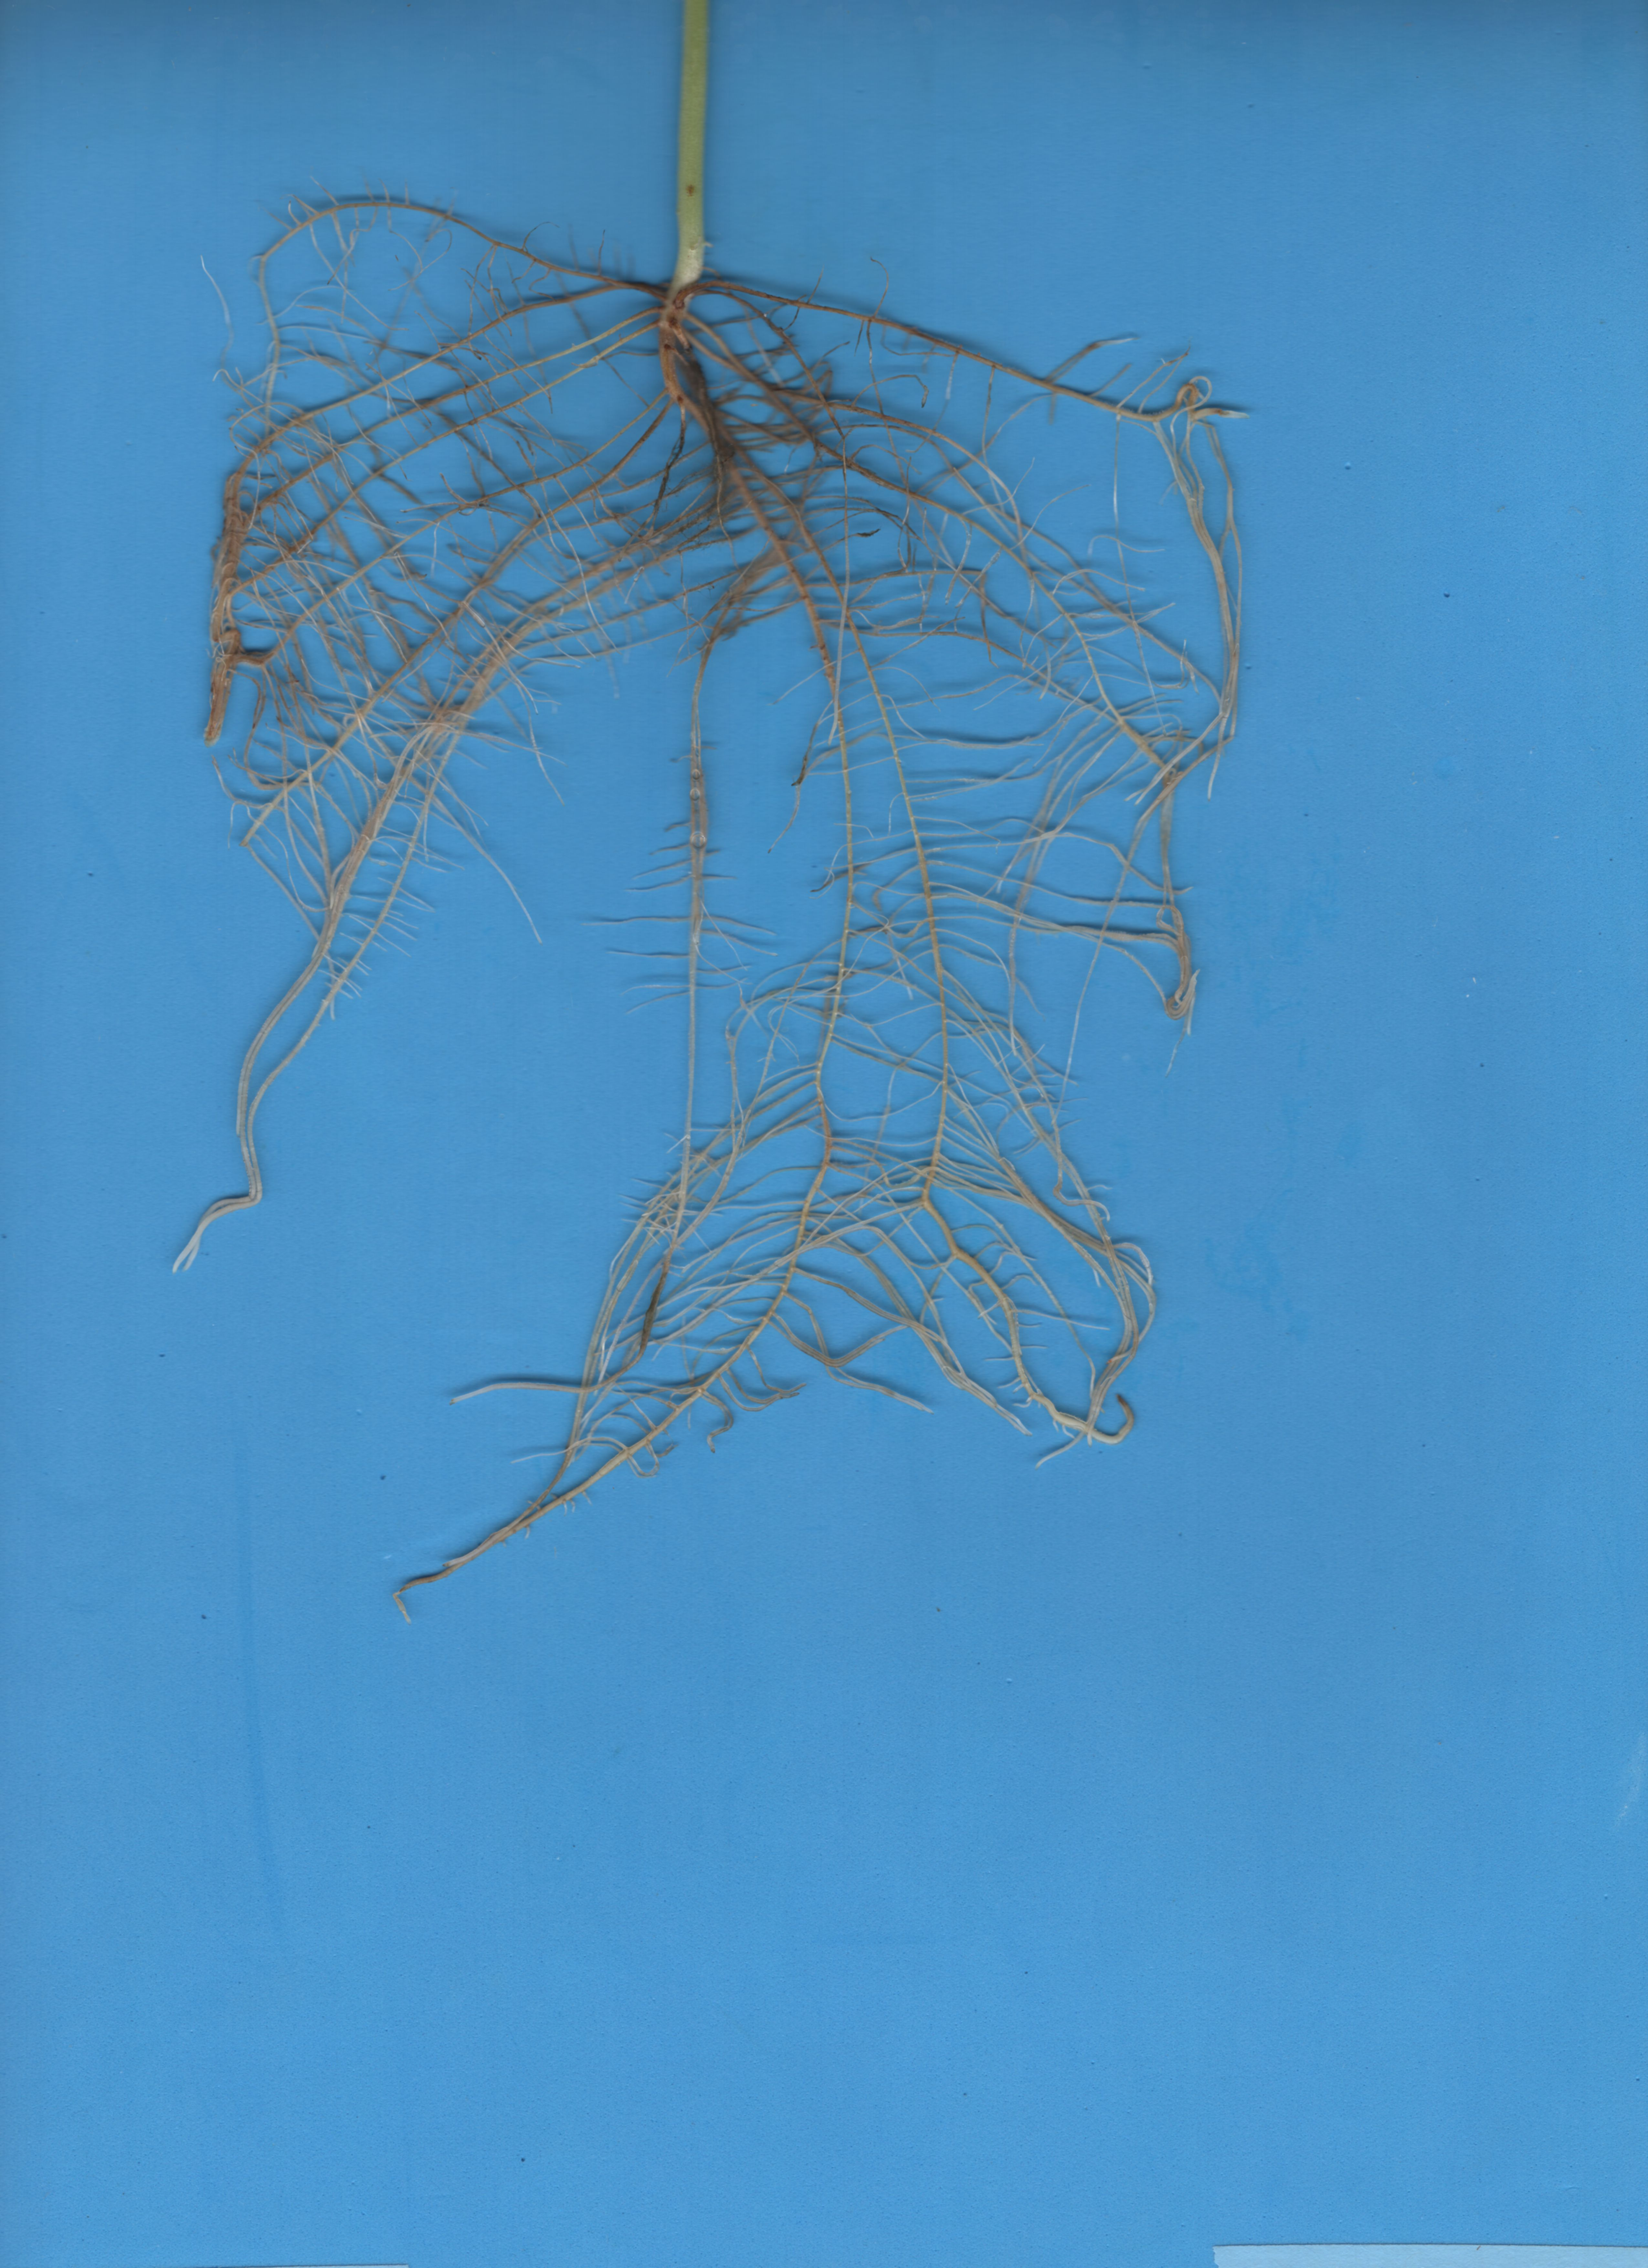CROWNGOOD: (644, 0, 752, 317)
ROOTDISEASE: (88, 199, 1310, 1620)
